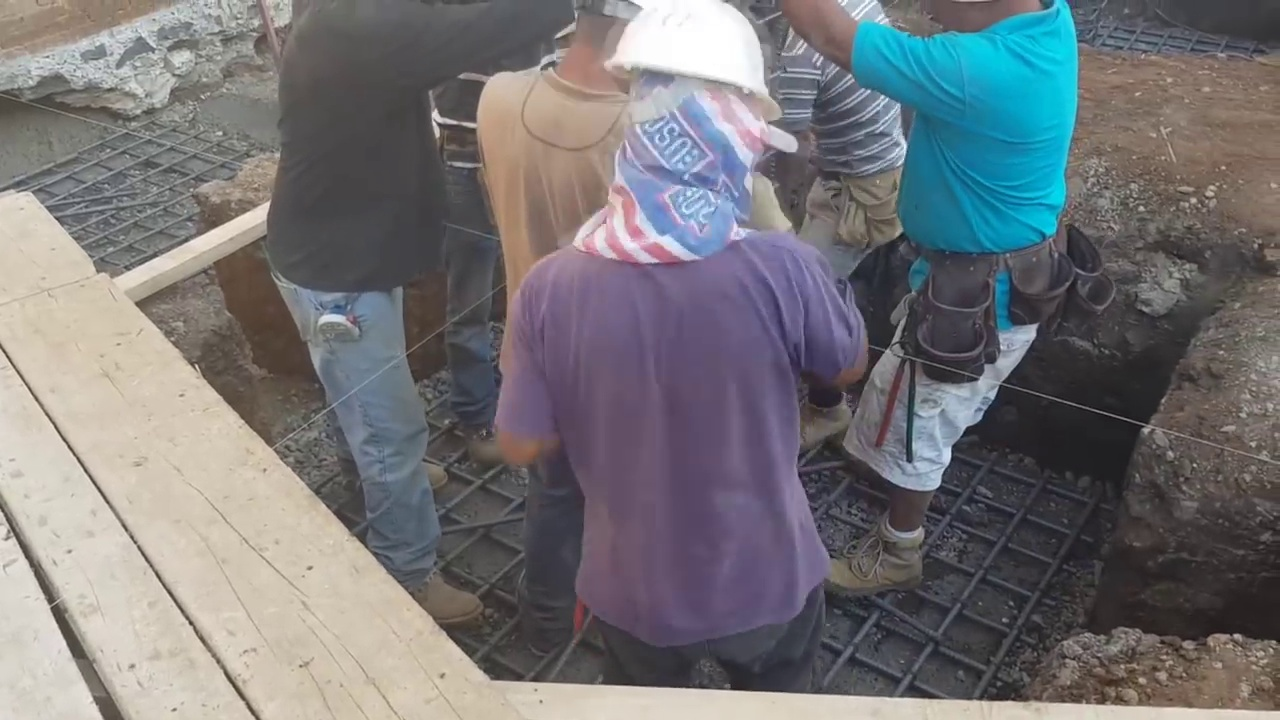helmet: (597, 2, 778, 113)
helmet-on: (594, 0, 785, 257)
person: (528, 34, 883, 671), (778, 0, 1079, 605), (259, 0, 513, 614), (486, 8, 636, 302), (789, 0, 921, 325)
